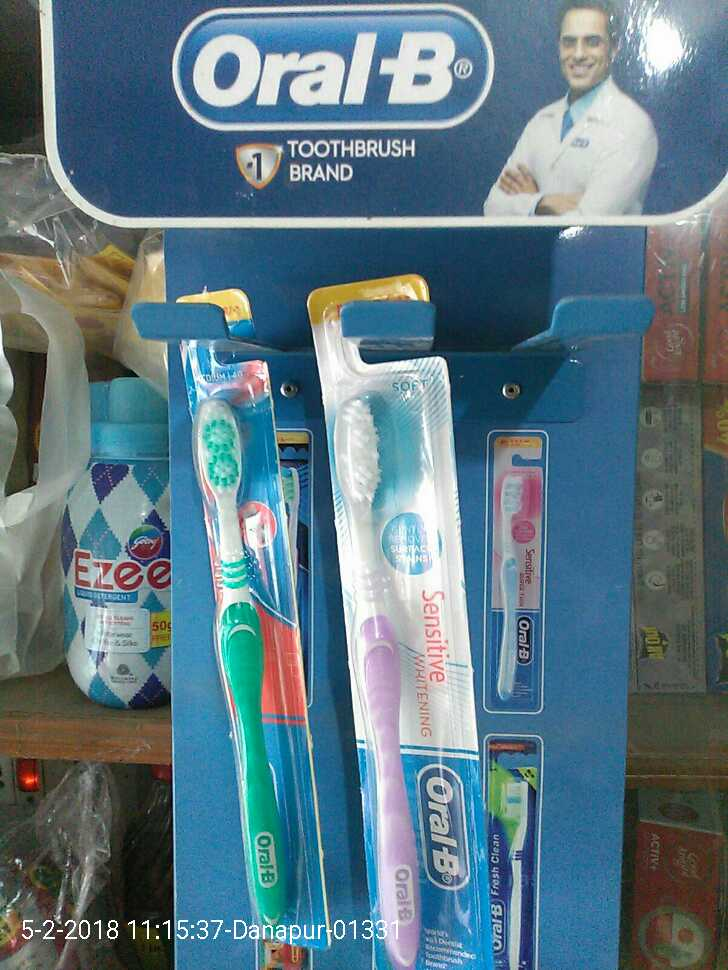oralb: (310, 290, 497, 970), (176, 300, 332, 939)
